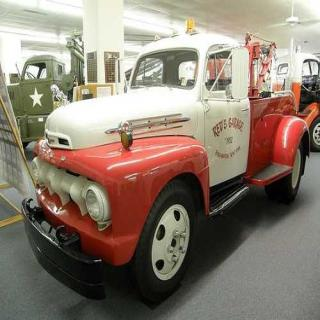Towing_truck: (19, 17, 311, 308)
